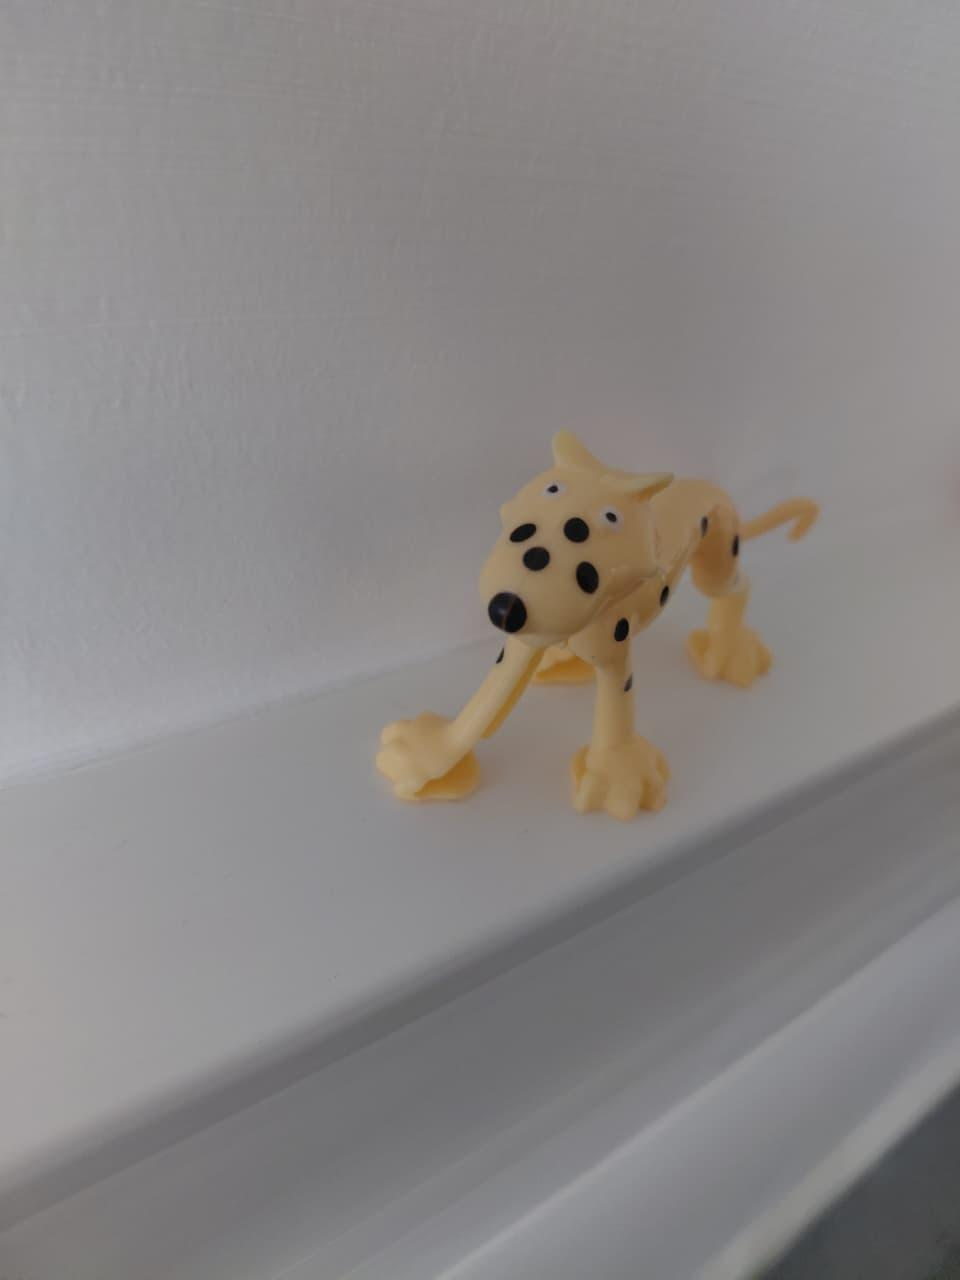cheetah: (350, 390, 836, 863)
